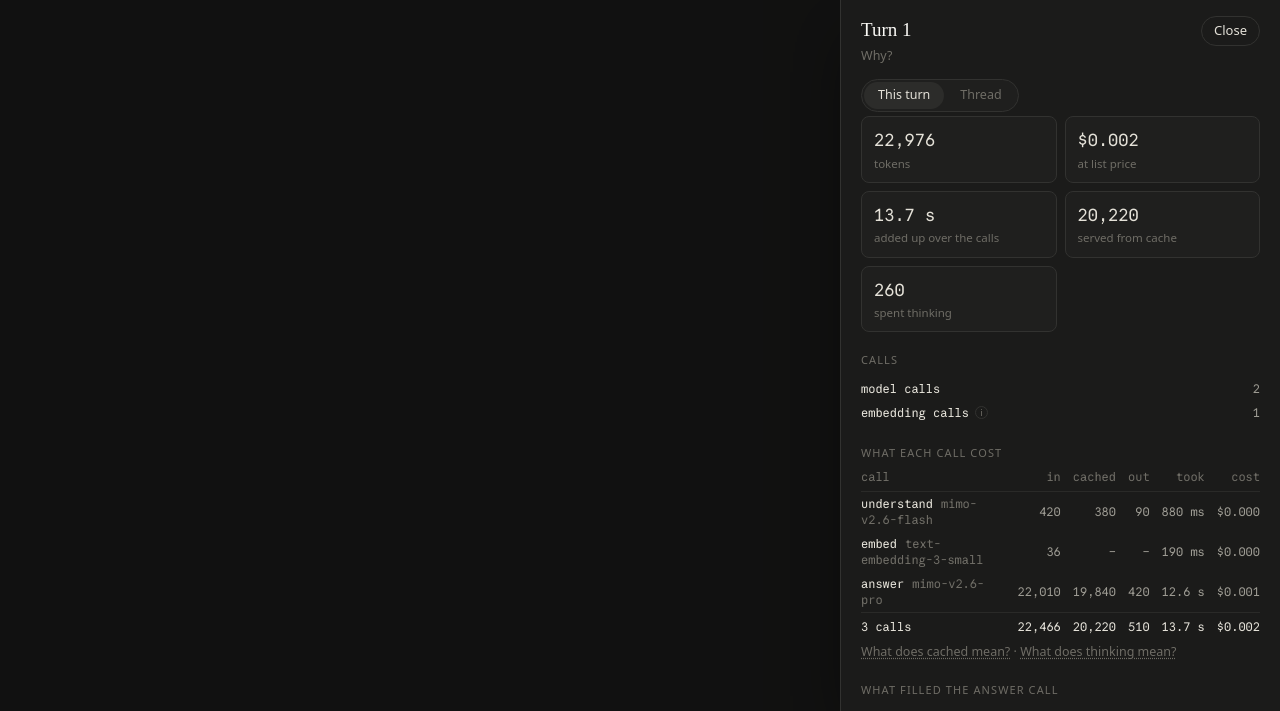
Scenario: StatsPane, this turn › says what was spent thinking, and only when something was
Expected: the text "spent thinking" is shown, [874,305,952,320]
Click the button with aria-label "What thinking means". click: (1098, 653)
box: [1020,643,1176,662]
(page scrolled)
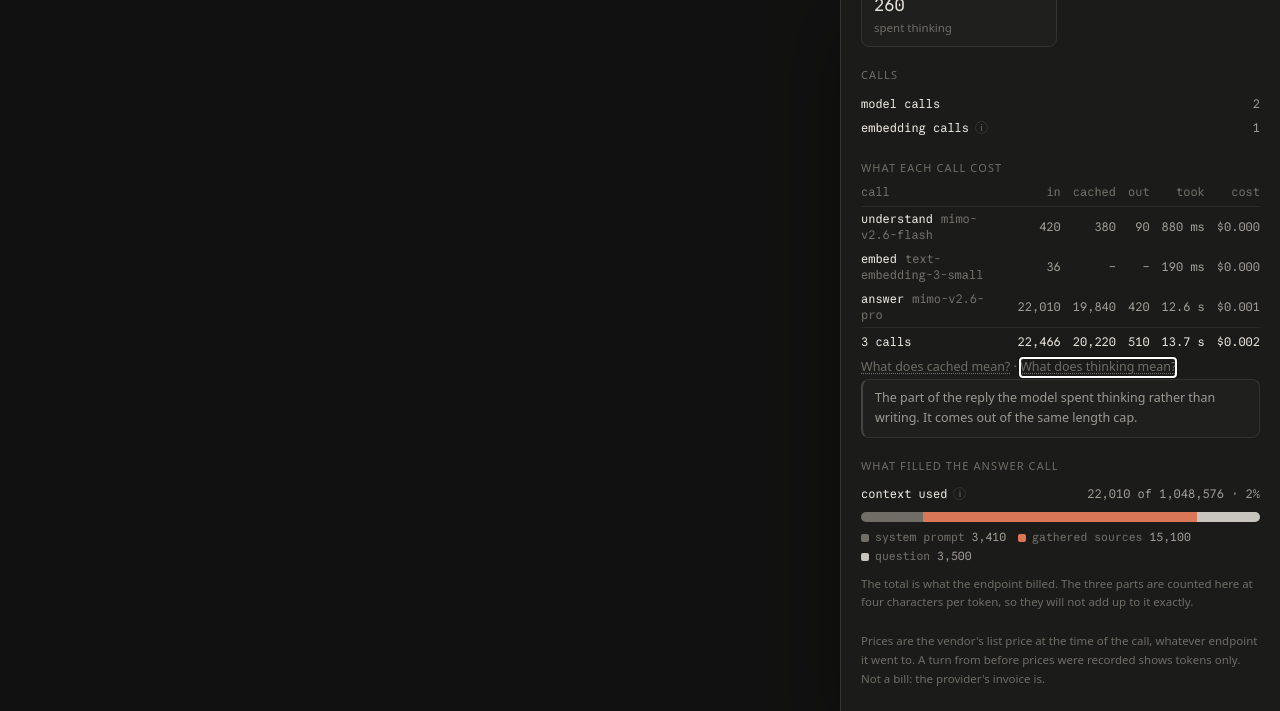
Result: the text "thinking rather than writing" is shown at [875,389,1215,426]
